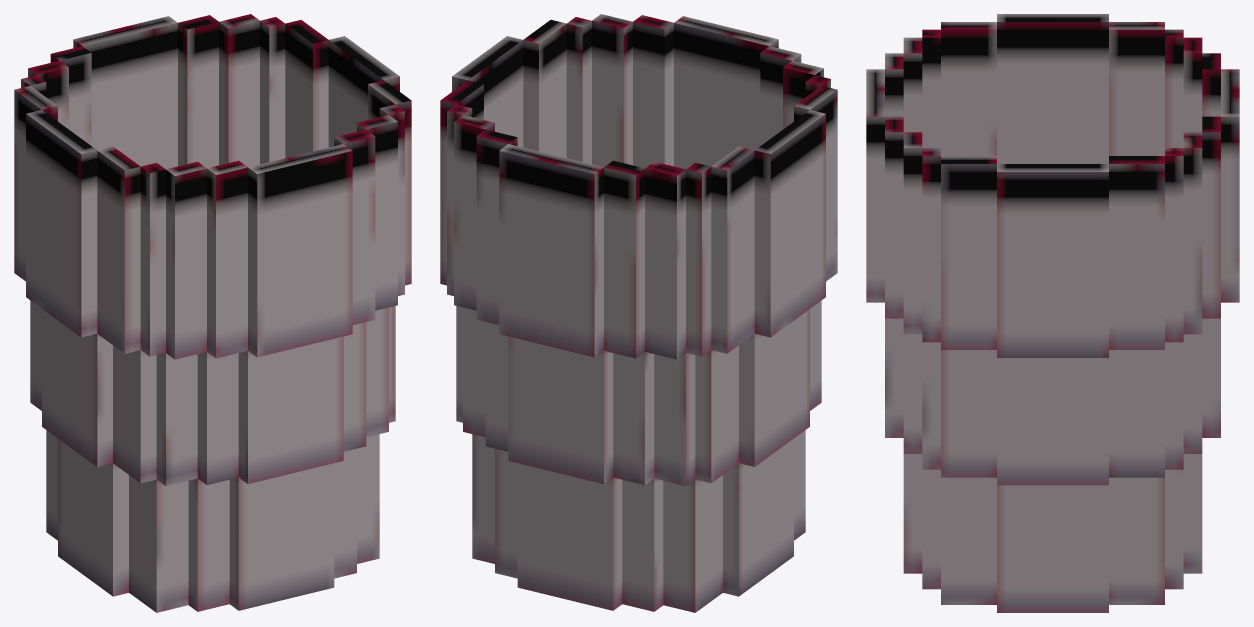
File: bin_3.obj
3 views of the same model, side by side, from view 1: azimuth 30°, elevation 25°; view 2: azimuth 150°, elevation 25°; view 3: azimuth 270°, elevation 25° (orthographic).
Visible parts, largest first — view 1: bin_3; view 2: bin_3; view 3: bin_3.
Boxes of the visible parts, bbox=[...] form: bin_3: bbox=[14, 14, 411, 612]; bin_3: bbox=[440, 14, 837, 612]; bin_3: bbox=[866, 14, 1239, 612].
Bounding box in the file's own units: 2 × 2.7 × 2.
Materials: 1 (1 with a texture image).
